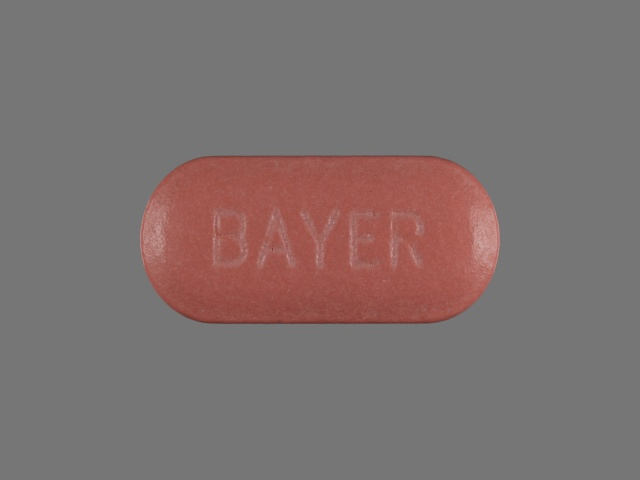A: (250, 203, 300, 275)
B: (208, 207, 248, 274)
E: (346, 208, 384, 272)
R: (388, 204, 423, 271)
Y: (300, 204, 339, 272)
